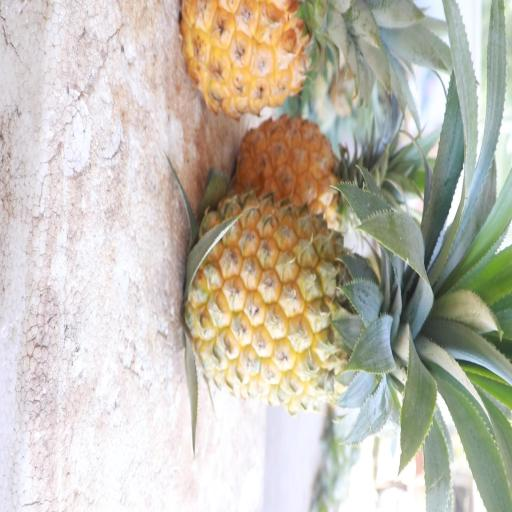Pineapple - v8 v1: (180, 194, 418, 420), (181, 0, 375, 125), (234, 113, 372, 253), (244, 98, 244, 99)
